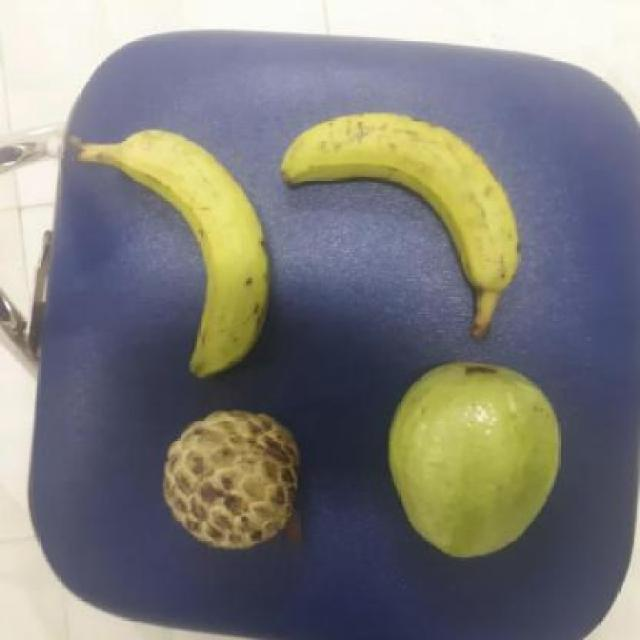banana: (108, 115, 271, 386), (282, 109, 523, 289)
guava: (382, 358, 566, 560)
sugar apple: (161, 402, 302, 556)
